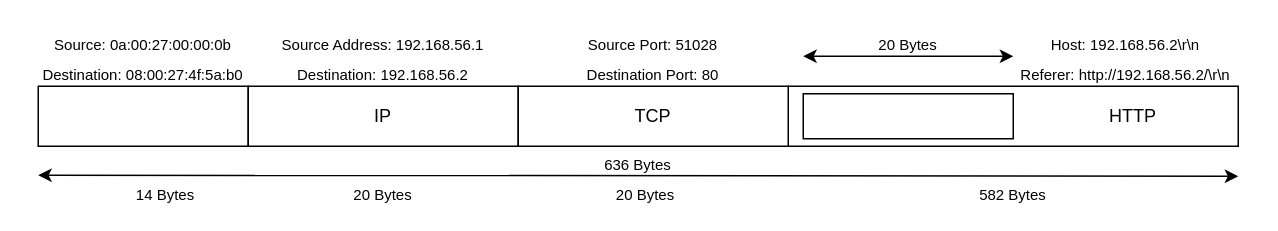
This 1278x231 diagram has some shape labels left out. Each missing label, with the centre of its shape:
"Ethernet" goes at (x=142, y=115).
"Request Method: GET Request URI: /12292861.html Request Version: HTTP/1.1" goes at (x=907, y=115).
